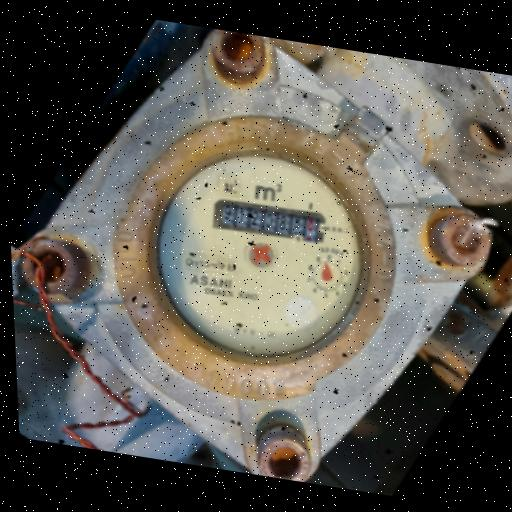0: (263, 209, 277, 230)
1: (235, 206, 249, 227)
2: (249, 208, 262, 229)
8: (303, 216, 317, 242), (276, 211, 290, 232), (290, 213, 304, 234)
9: (220, 203, 235, 225)
border_water_meter_number: (210, 196, 329, 245)
